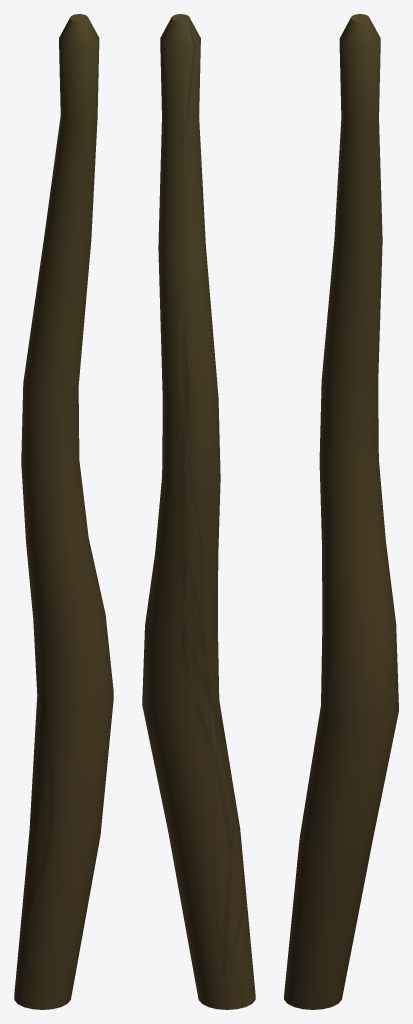
File: FruitPlantStem.fbx
3 views of the same model, side by side, from view 1: azimuth 30°, elevation 25°; view 2: azimuth 150°, elevation 25°; view 3: azimuth 330°, elevation 25° (orthographic). The views are drawn at different scales.
Parts seen in each view (by area): view 1: FruitPlantStem; view 2: FruitPlantStem; view 3: FruitPlantStem.
Boxes of the visible parts, left/top/right/bottom form: FruitPlantStem: left=14, top=14, right=113, bottom=1009; FruitPlantStem: left=142, top=14, right=255, bottom=1009; FruitPlantStem: left=284, top=14, right=398, bottom=1009.
Bounding box in the file's own units: 0.2225 × 2.1 × 0.1814.
